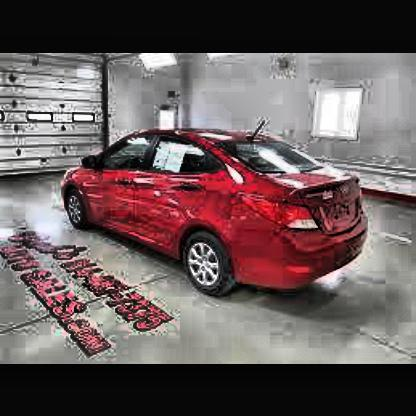Hyundai Accent Sedan 2012: (63, 124, 371, 299)
